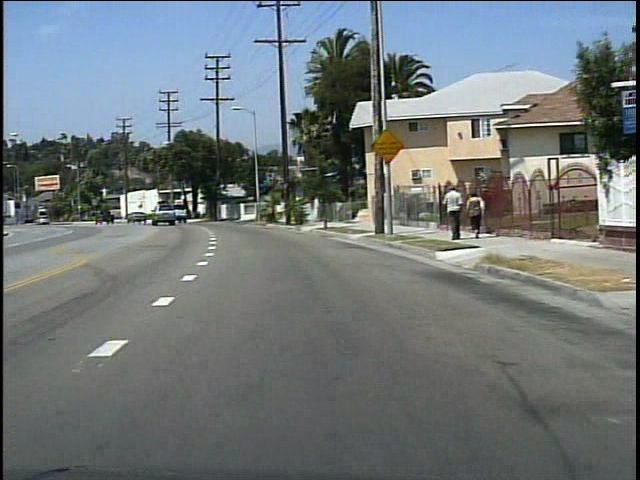person: (438, 181, 460, 242), (461, 188, 486, 241)
